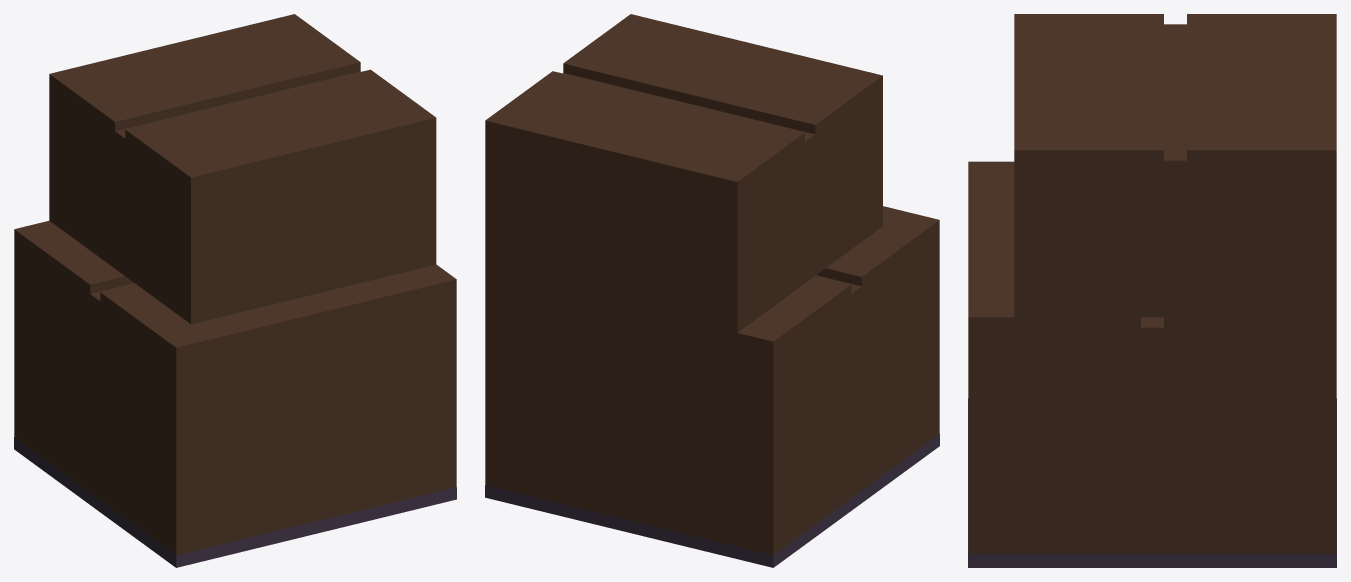
The model's file is storage_boxes2.dae.
3 views of the same model, side by side, from view 1: azimuth 30°, elevation 25°; view 2: azimuth 150°, elevation 25°; view 3: azimuth 270°, elevation 25° (orthographic). The views are drawn at different scales.
Visible parts, largest first — view 1: storage_boxes2_MSH; view 2: storage_boxes2_MSH; view 3: storage_boxes2_MSH.
Part boxes in pixels (<box>): storage_boxes2_MSH: <box>14,14,456,567</box>; storage_boxes2_MSH: <box>485,14,939,567</box>; storage_boxes2_MSH: <box>968,14,1336,567</box>.
Size of the model in its own units: 1 by 1.25 by 1.
